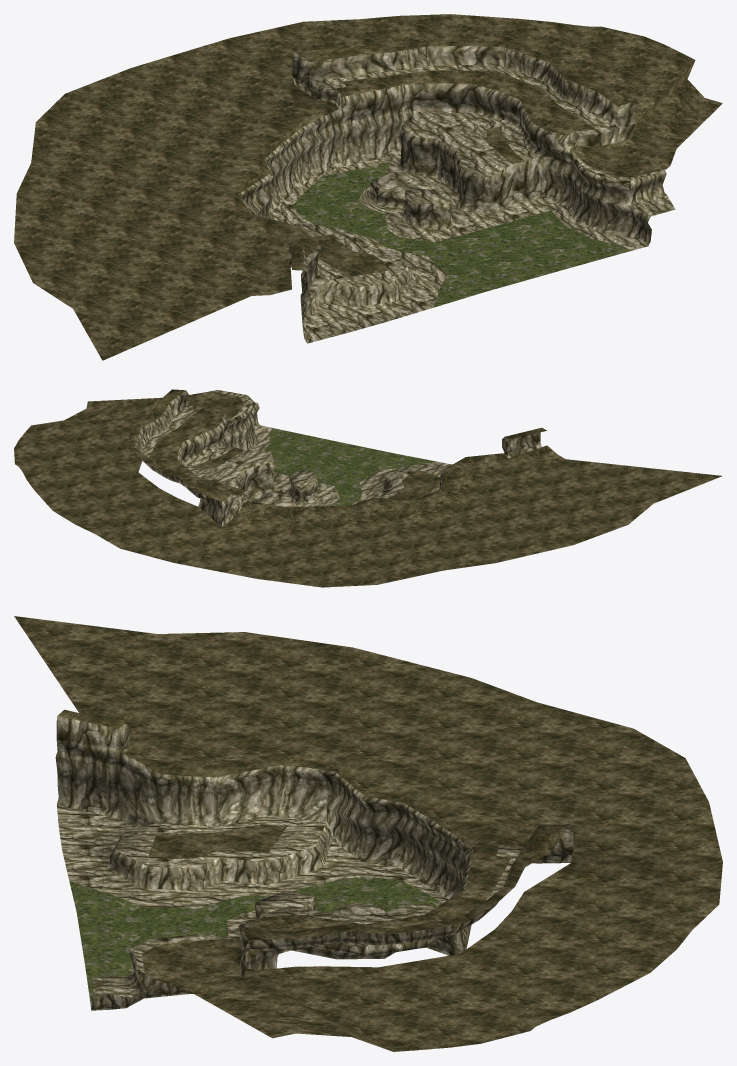
File: CB_NEWPLAYSURFACE_OBJECT07.fbx
3 renders of one model, top to bottom at view 1: azimuth 30°, elevation 25°; view 2: azimuth 150°, elevation 25°; view 3: azimuth 270°, elevation 25°, orthographic. The views are drawn at different scales.
Parts seen in each view (by area): view 1: CB_NEWPLAYSURFACE_OBJECT07; view 2: CB_NEWPLAYSURFACE_OBJECT07; view 3: CB_NEWPLAYSURFACE_OBJECT07.
Boxes of the visible parts, x1,y1,x2,y2 form: CB_NEWPLAYSURFACE_OBJECT07: (14, 14, 722, 360); CB_NEWPLAYSURFACE_OBJECT07: (14, 389, 721, 587); CB_NEWPLAYSURFACE_OBJECT07: (14, 616, 722, 1051).
Bounding box in the file's own units: 1087672 × 116649 × 747600.
Materials: 4 (4 with a texture image).
